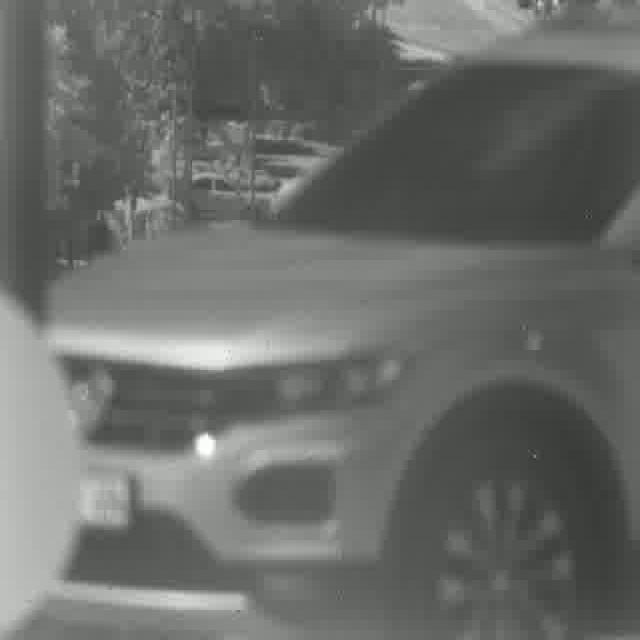Car: (35, 19, 640, 640), (167, 172, 276, 222)
